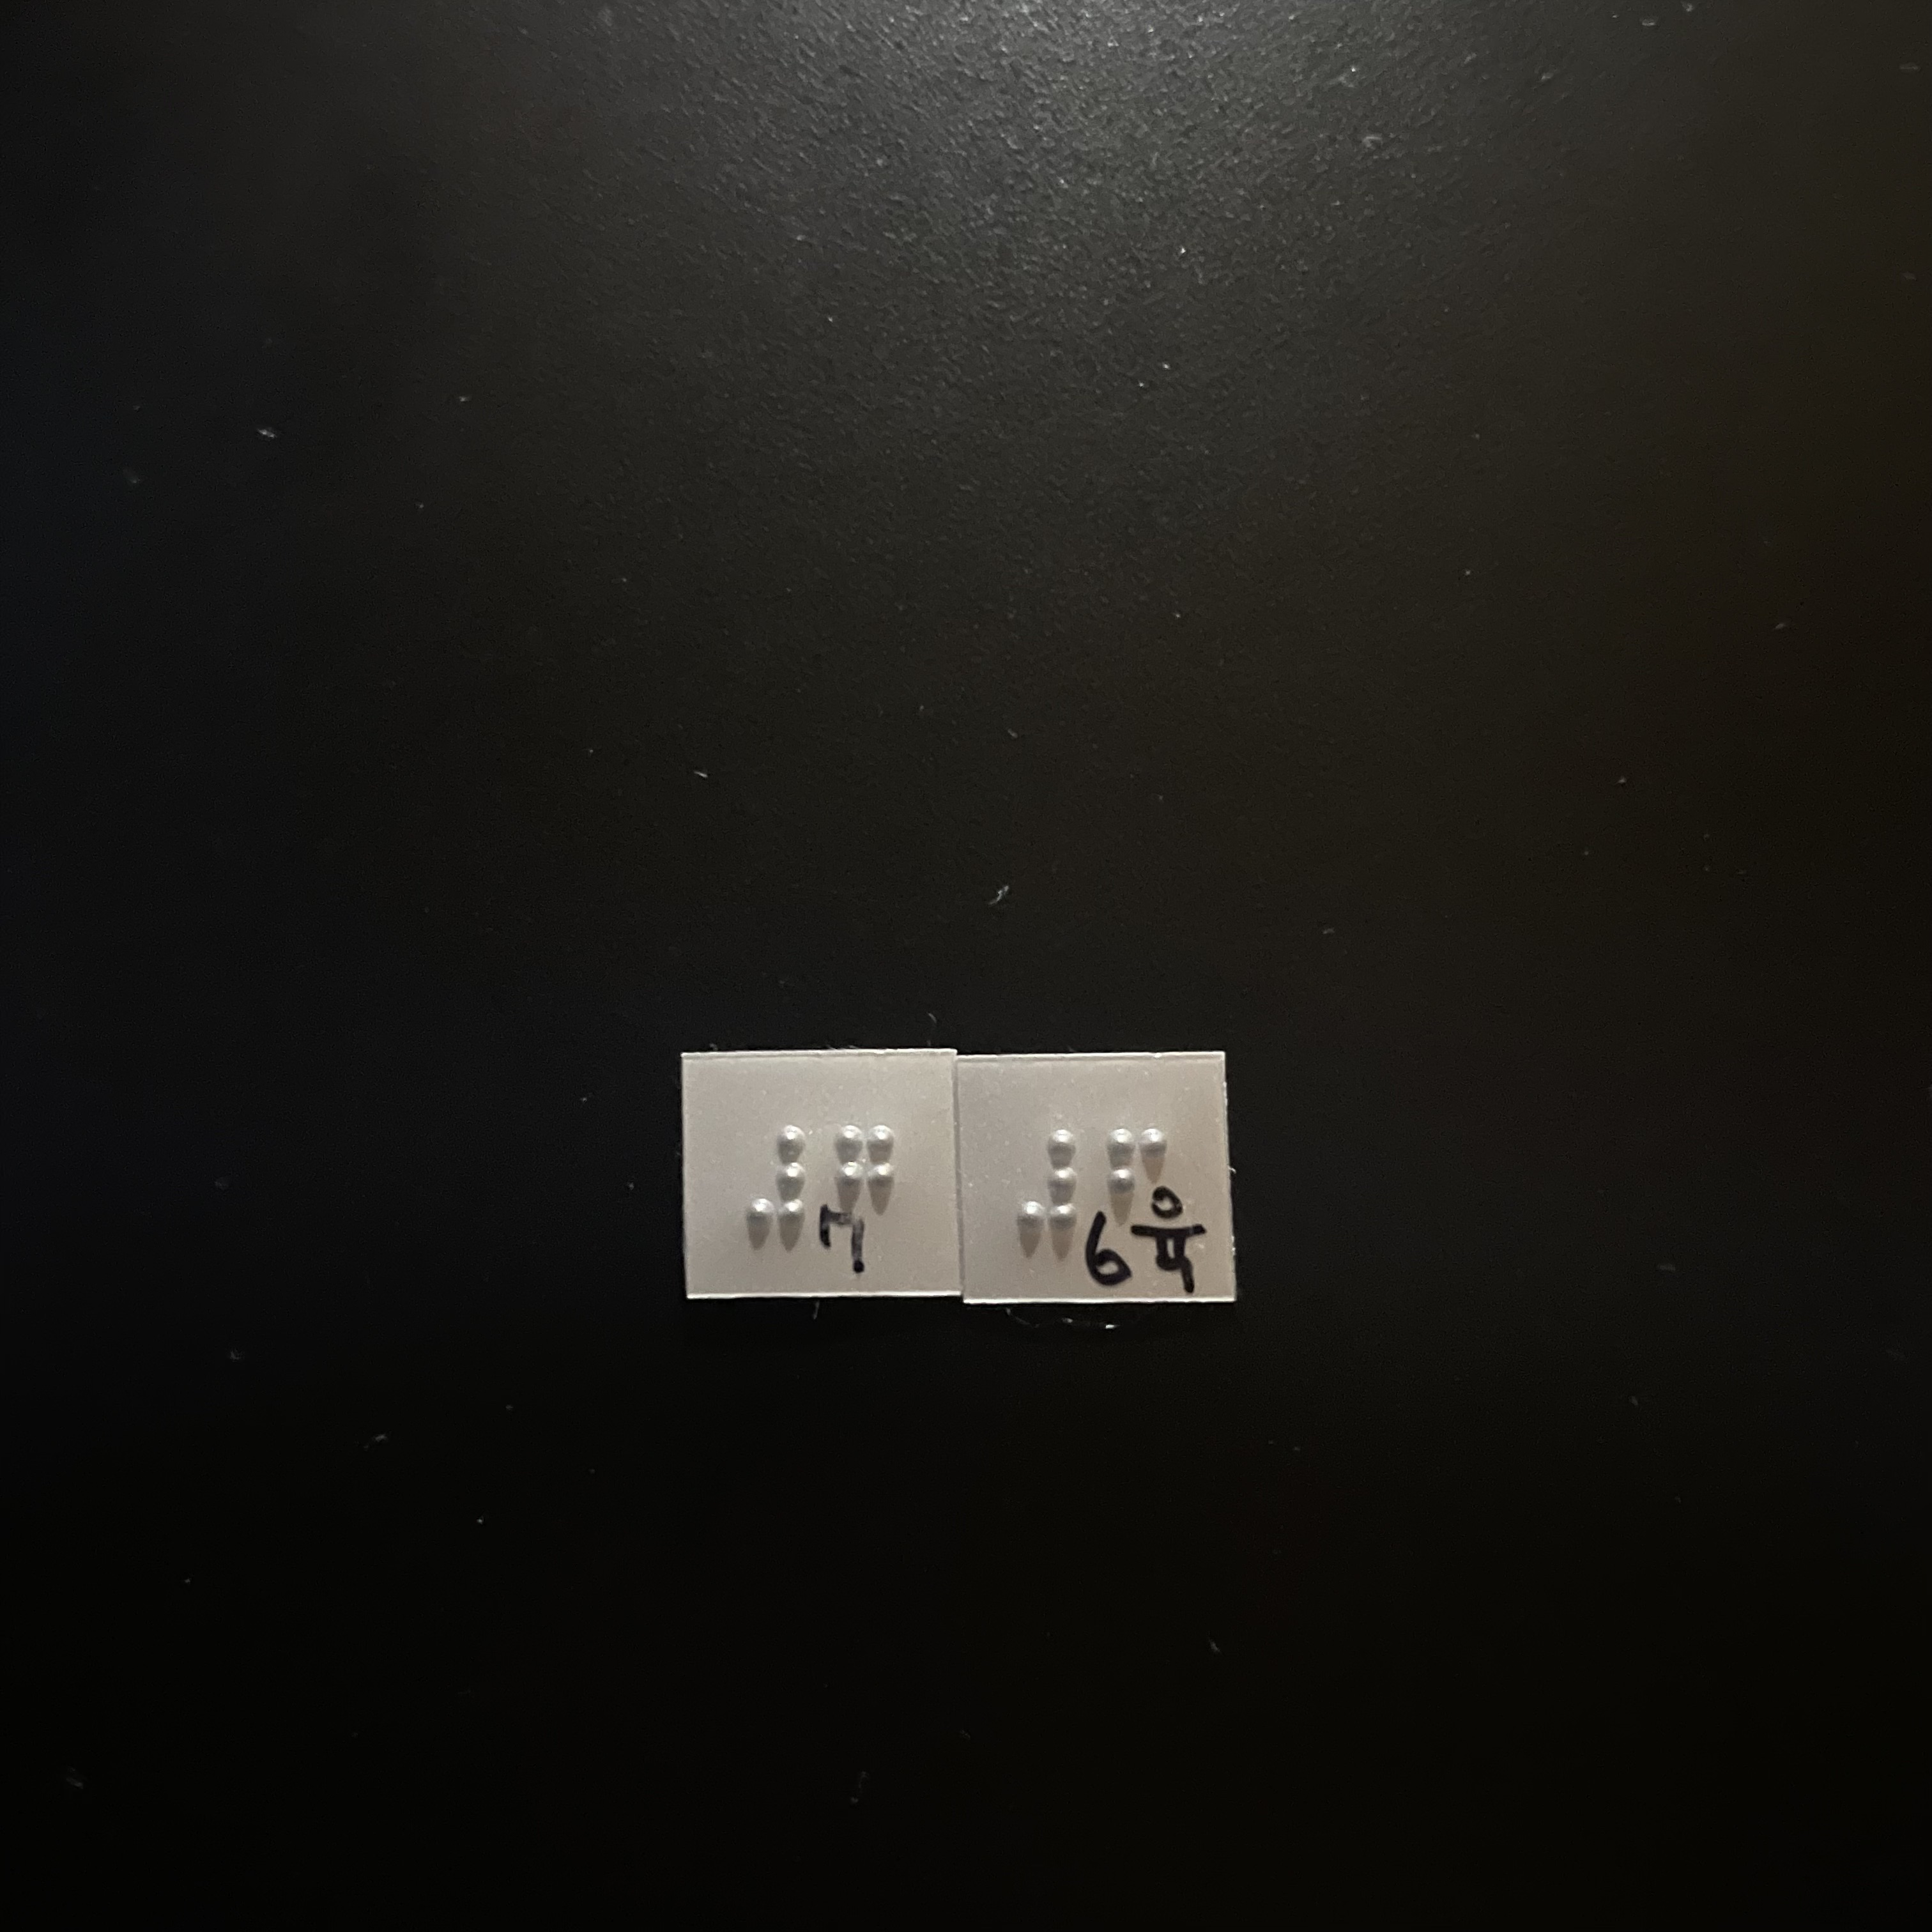#: (1011, 1126, 1089, 1251), (740, 1123, 813, 1245)
f: (1093, 1123, 1177, 1253)
g: (816, 1123, 908, 1249)
